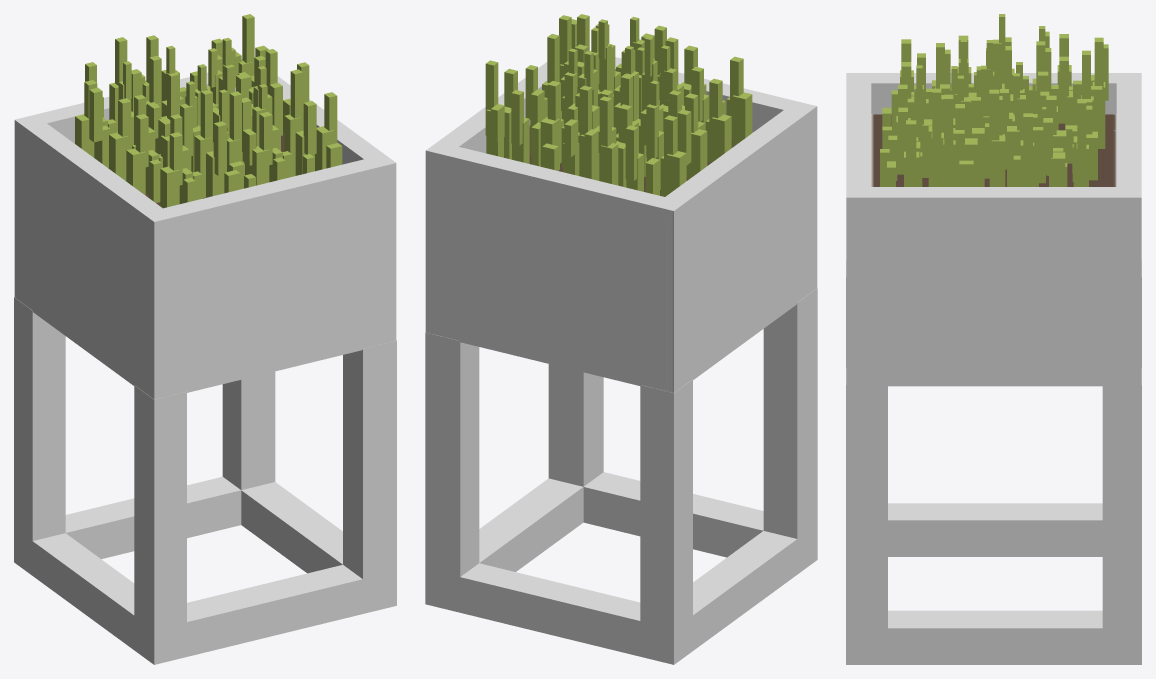
The model's file is plant04_03.gltf.
3 views of the same model, side by side, from view 1: azimuth 30°, elevation 25°; view 2: azimuth 150°, elevation 25°; view 3: azimuth 270°, elevation 25° (orthographic). The views are drawn at different scales.
Visible parts, largest first — view 1: plant04_stage01:pot02, plant04_stage01:pot, pCube48, pCube60, pCube36, pCube53, pCube26, pCube72, pCube134, pCube73, pCube86, pCube32 (+12 smaller); view 2: plant04_stage01:pot02, plant04_stage01:pot, pCube36, pCube48, pCube60, pCube62, pCube50, pCube69, pCube86, pCube140, pCube53, pCube67 (+8 smaller); view 3: plant04_stage01:pot02, plant04_stage01:pot, plant04_stage01:dirt, pCube143, pCube73, pCube86, pCube21, pCube20, pCube100, pCube125, pCube17, pCube57 (+9 smaller).
Boxes of the visible parts, left/top/right/bottom form: plant04_stage01:pot02: left=14, top=72, right=396, bottom=399; plant04_stage01:pot: left=14, top=297, right=396, bottom=664; pCube48: left=126, top=148, right=145, bottom=195; pCube60: left=109, top=132, right=128, bottom=180; pCube36: left=160, top=166, right=179, bottom=208; pCube53: left=89, top=87, right=102, bottom=142; pCube26: left=213, top=121, right=226, bottom=175; pCube72: left=303, top=101, right=316, bottom=154; pCube134: left=229, top=91, right=241, bottom=161; pCube73: left=290, top=69, right=302, bottom=130; pCube86: left=242, top=14, right=254, bottom=75; pCube32: left=200, top=89, right=212, bottom=151; plant04_stage01:pot02: left=425, top=51, right=817, bottom=392; plant04_stage01:pot: left=425, top=288, right=817, bottom=664; pCube36: left=732, top=92, right=752, bottom=146; pCube48: left=711, top=114, right=731, bottom=162; pCube60: left=687, top=129, right=707, bottom=179; pCube62: left=666, top=151, right=686, bottom=195; pCube50: left=600, top=143, right=618, bottom=185; pCube69: left=625, top=125, right=638, bottom=180; pCube86: left=485, top=60, right=498, bottom=135; pCube140: left=579, top=85, right=592, bottom=160; pCube53: left=677, top=109, right=691, bottom=164; pCube67: left=599, top=96, right=611, bottom=171; plant04_stage01:pot02: left=846, top=73, right=1141, bottom=386; plant04_stage01:pot: left=846, top=260, right=1141, bottom=664; plant04_stage01:dirt: left=871, top=114, right=1116, bottom=186; pCube143: left=944, top=94, right=953, bottom=172; pCube73: left=932, top=88, right=941, bottom=166; pCube86: left=1077, top=99, right=1086, bottom=177; pCube21: left=991, top=136, right=1005, bottom=186; pCube20: left=989, top=89, right=999, bottom=167; pCube100: left=906, top=120, right=916, bottom=176; pCube125: left=1007, top=126, right=1019, bottom=186; pCube17: left=1023, top=113, right=1032, bottom=169; pCube57: left=1059, top=56, right=1068, bottom=113.
Bounding box in the file's own units: 0.0142 × 0.0303 × 0.0142.
Materials: 2 (1 with a texture image).
